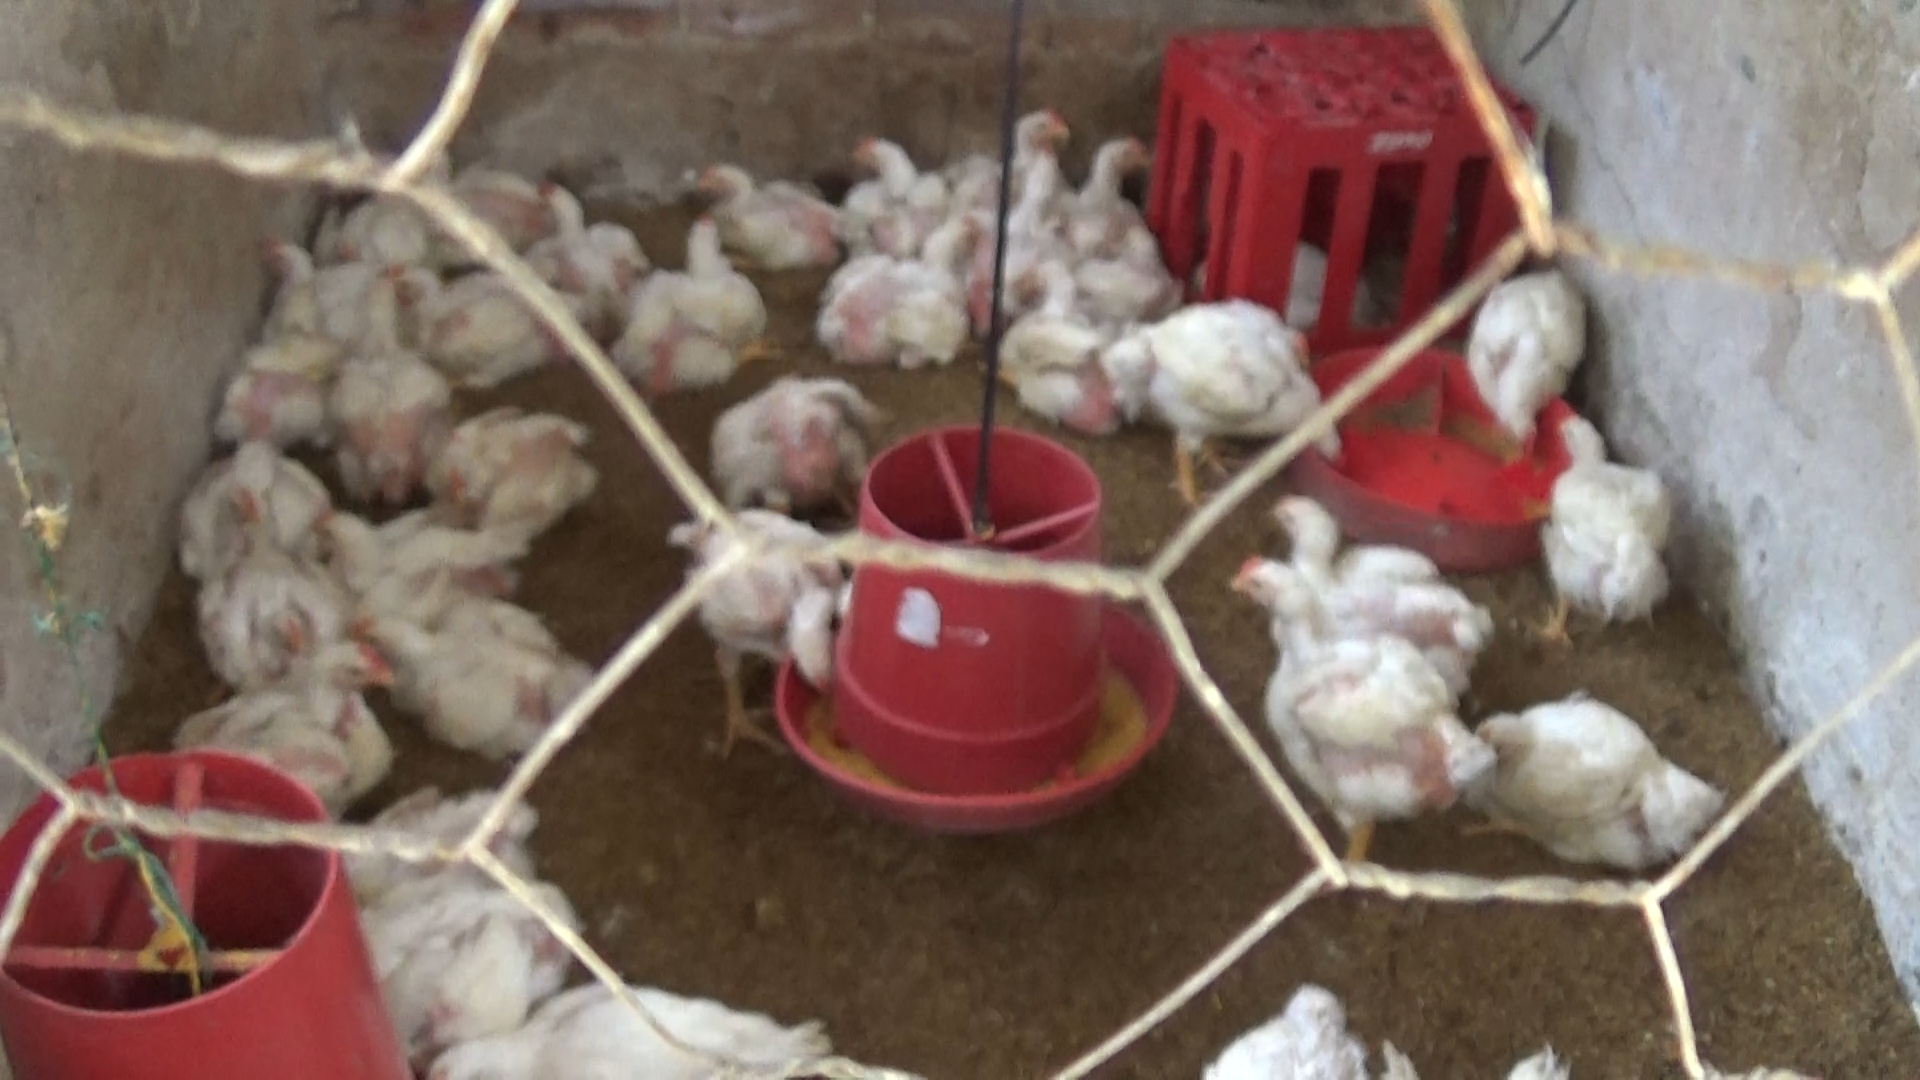Pollos: (1211, 560, 1487, 864), (1456, 688, 1726, 866), (1096, 314, 1354, 497), (666, 504, 856, 737), (1259, 491, 1505, 669), (160, 640, 417, 803), (381, 597, 611, 775), (1542, 409, 1702, 640), (353, 829, 566, 997), (818, 204, 981, 393), (316, 495, 520, 637), (716, 357, 890, 522), (618, 216, 779, 393), (1004, 255, 1142, 443), (160, 419, 331, 567), (388, 247, 578, 375), (202, 522, 351, 680), (435, 413, 612, 541), (945, 113, 1091, 262), (336, 336, 458, 492), (682, 144, 825, 262), (216, 314, 338, 440), (806, 117, 936, 233), (1071, 119, 1162, 276), (539, 169, 640, 276), (262, 223, 345, 316)
